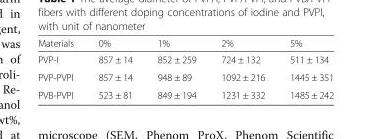table: (37, 36, 333, 100)
table column: (208, 36, 276, 100), (144, 36, 208, 100), (85, 36, 144, 100), (276, 36, 333, 100), (37, 36, 85, 100)
table column header: (37, 36, 333, 50)
table row: (37, 50, 333, 68), (37, 68, 333, 85), (37, 85, 333, 100), (37, 36, 333, 50)
